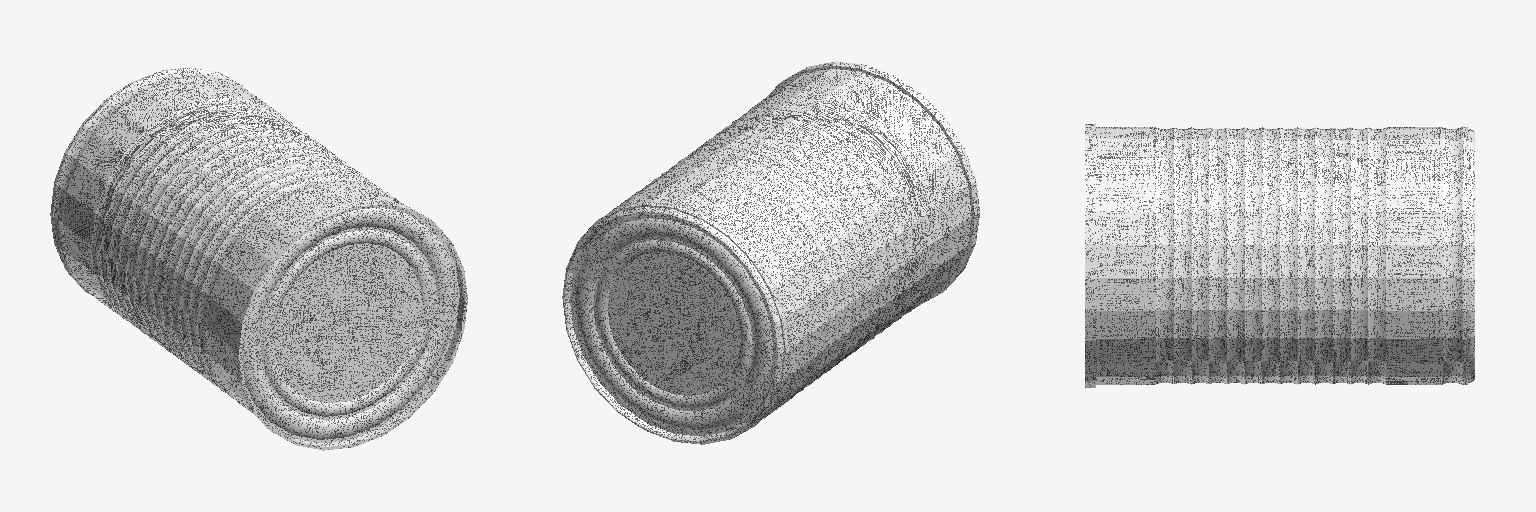
File: model_align.obj
The picture shows the model from 3 angles: view 1: azimuth 30°, elevation 25°; view 2: azimuth 150°, elevation 25°; view 3: azimuth 270°, elevation 25°; orthographic projection.
Parts seen in each view (by area): view 1: mesh1_mesh1-geometry; view 2: mesh1_mesh1-geometry; view 3: mesh1_mesh1-geometry.
Boxes of the visible parts, x1=… form: mesh1_mesh1-geometry: x1=50, y1=67, x2=467, y2=450; mesh1_mesh1-geometry: x1=562, y1=61, x2=979, y2=444; mesh1_mesh1-geometry: x1=1085, y1=124, x2=1474, y2=387.
Bounding box in the file's own units: 0.0782 × 0.0782 × 0.1148.